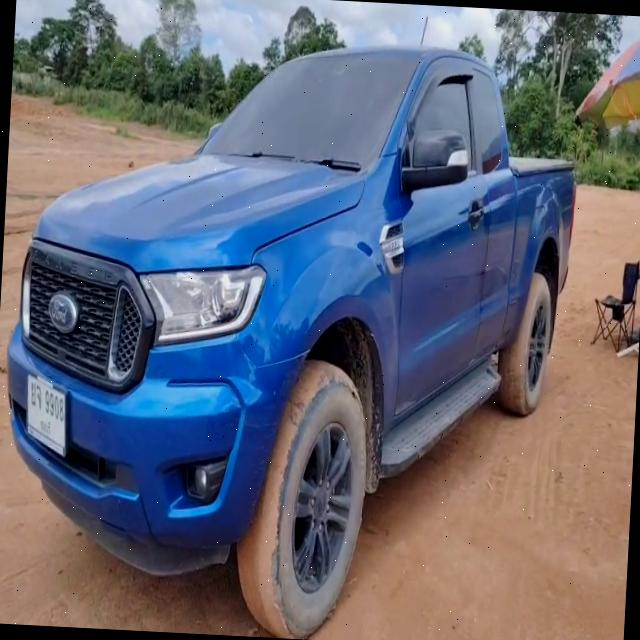Digit: (44, 389, 64, 424)
Licenseplate: (27, 371, 67, 459)
Provincename: (40, 417, 52, 439)
Thaichar: (31, 382, 42, 411)
